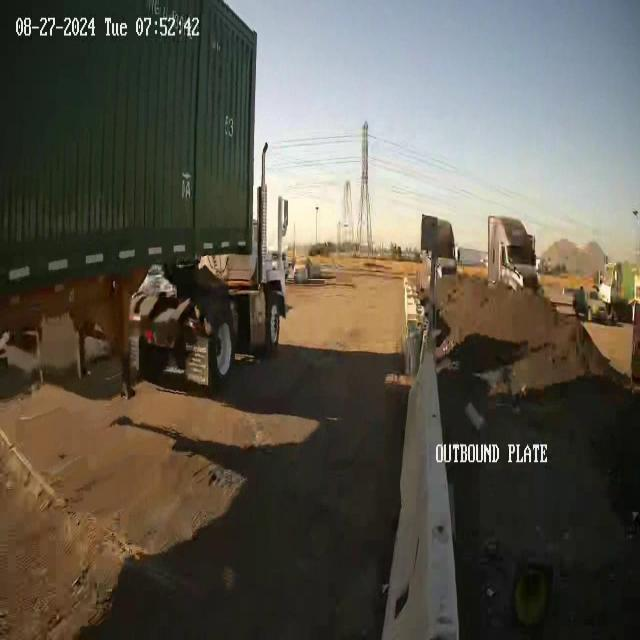TRUCK_IN: (1, 1, 289, 390)
